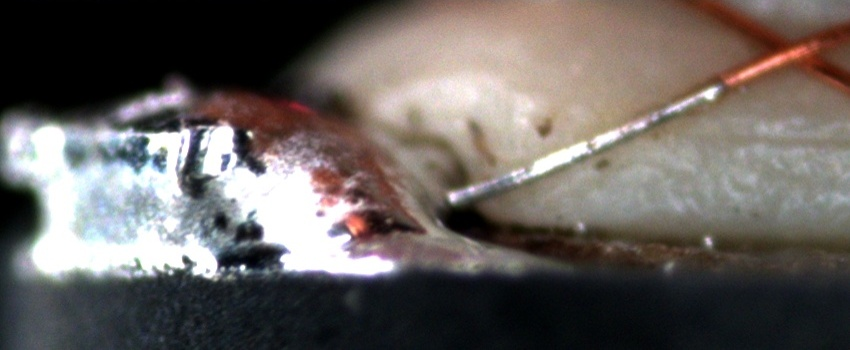CL: (745, 18, 835, 78)
DL: (646, 112, 850, 176)
TS: (440, 77, 727, 208)
